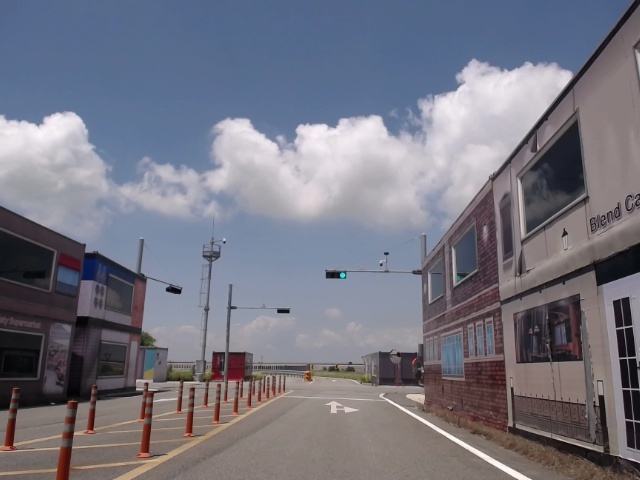green_3: (325, 271, 346, 279)
